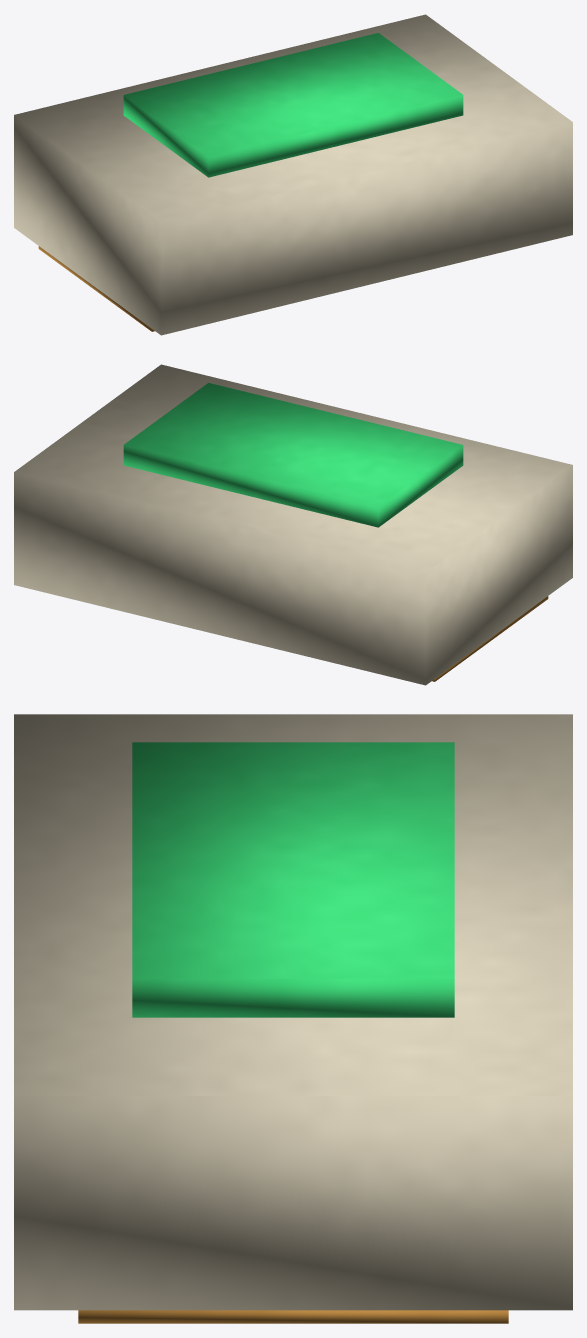
The model's file is 069_L102_LED2.obj.
The picture shows the model from 3 angles, top to bottom: view 1: azimuth 30°, elevation 25°; view 2: azimuth 150°, elevation 25°; view 3: azimuth 270°, elevation 25°; orthographic projection. The views are drawn at different scales.
Visible parts, largest first — view 1: 0005_Ceramic_Cream, 0004_Indicator_Green, 0002_Copper_Gold; view 2: 0005_Ceramic_Cream, 0004_Indicator_Green, 0002_Copper_Gold; view 3: 0005_Ceramic_Cream, 0004_Indicator_Green, 0000_Copper_Gold.
Part boxes in pixels (x1,y1,x2,y2): 0005_Ceramic_Cream: (14, 14, 572, 335); 0004_Indicator_Green: (123, 33, 463, 177); 0002_Copper_Gold: (38, 246, 154, 331); 0005_Ceramic_Cream: (14, 364, 572, 685); 0004_Indicator_Green: (123, 383, 463, 527); 0002_Copper_Gold: (432, 596, 548, 681); 0005_Ceramic_Cream: (14, 714, 572, 1310); 0004_Indicator_Green: (132, 742, 454, 1017); 0000_Copper_Gold: (78, 1310, 508, 1323).
Size of the model in its own units: 0.0021 by 0.000717 by 0.0013.
